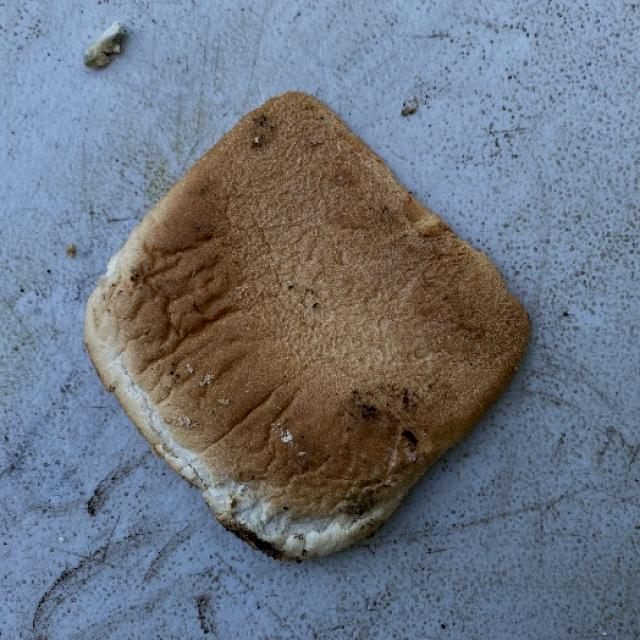wet: (75, 76, 558, 602)
